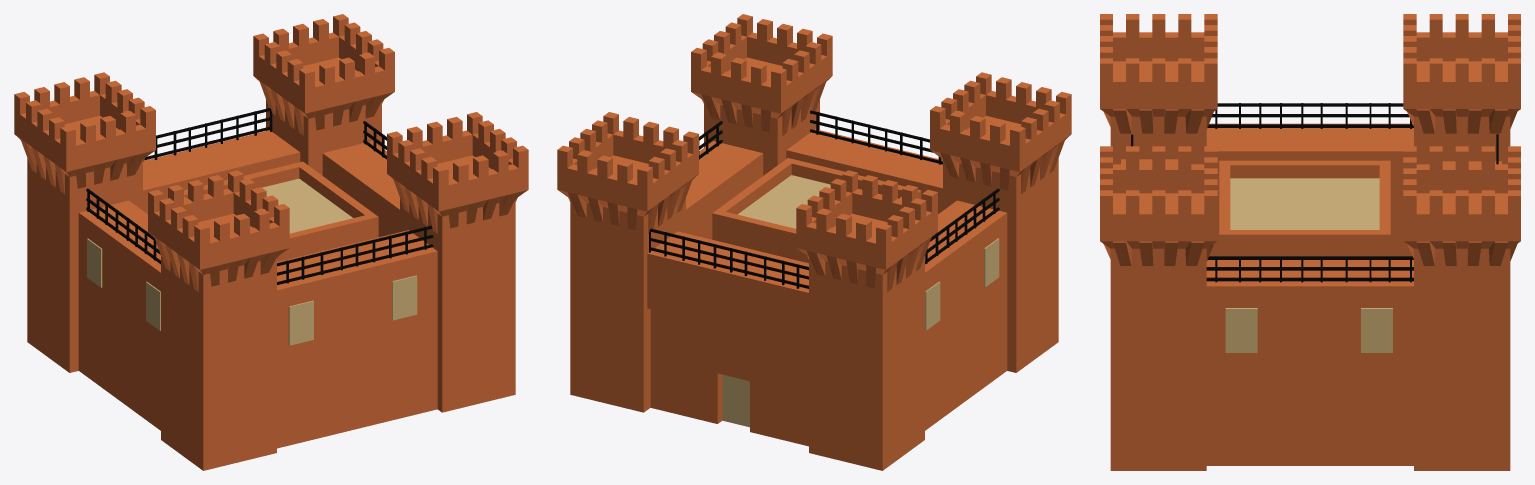
Rendered from fort.dae.
The picture shows the model from 3 angles, left to right: view 1: azimuth 30°, elevation 25°; view 2: azimuth 150°, elevation 25°; view 3: azimuth 270°, elevation 25°; orthographic projection. The views are drawn at different scales.
Parts seen in each view (by area): view 1: model; view 2: model; view 3: model.
Boxes of the visible parts, x1=… form: model: x1=14, y1=14, x2=528, y2=470; model: x1=557, y1=14, x2=1071, y2=470; model: x1=1100, y1=14, x2=1520, y2=470.
Size of the model in its own units: 527390 by 377586 by 515314.
